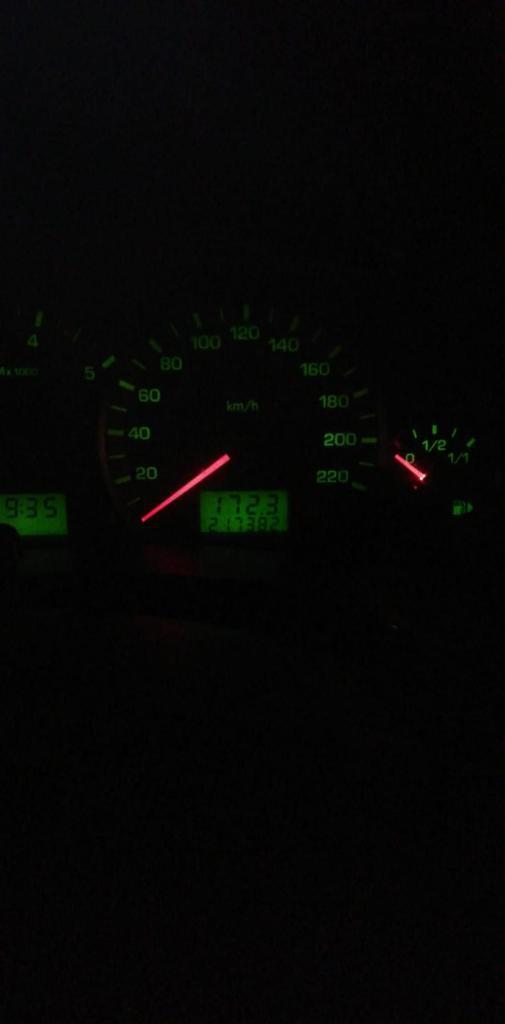,: (260, 511, 263, 515)
1: (216, 496, 222, 513), (225, 517, 230, 532)
2: (244, 494, 259, 515), (269, 515, 279, 532), (208, 516, 217, 532)
3: (265, 493, 278, 515), (246, 516, 255, 532)
7: (229, 493, 240, 513), (233, 516, 242, 532)
8: (257, 516, 267, 531)
odometer: (197, 487, 290, 535)
